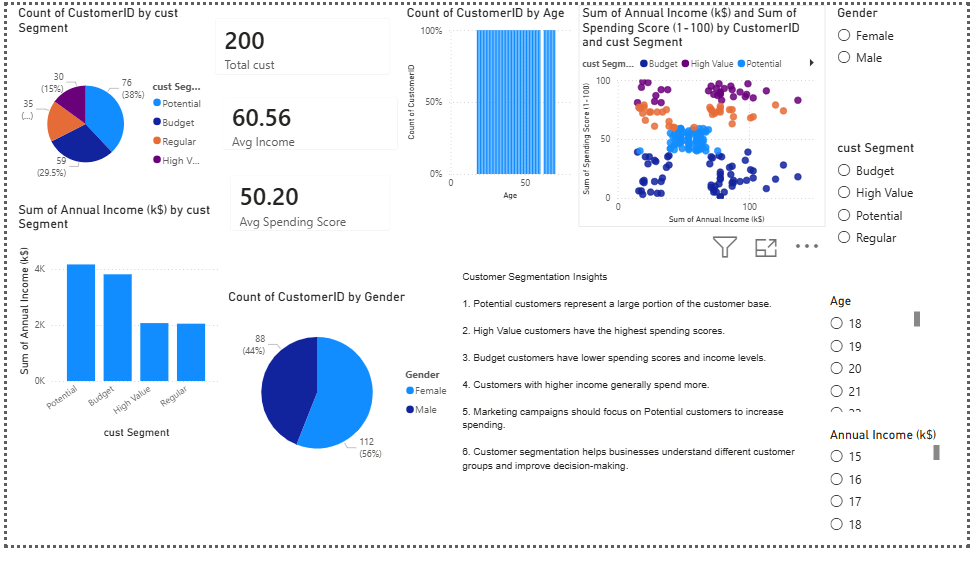

The page's visual inventory and layout, read from the dashboard file:
{"tool":"powerbi","page":{"name":"Page 1","canvas":[1280,720],"ordinal":0},"visuals":[{"type":"pieChart","fields":{"Category":["cust.cust Segment"],"Y":["CountNonNull(cust.CustomerID)"]},"box":[10,0,266,278],"z":0},{"type":"cardVisual","fields":{"Data":["cust.Total cust"]},"box":[260,0,268,110],"z":1},{"type":"cardVisual","fields":{"Data":["cust.Avg Income"]},"box":[270,106,268,104],"z":2},{"type":"cardVisual","fields":{"Data":["cust.Avg Spending Score"]},"box":[280,210,248,108],"z":3},{"type":"clusteredColumnChart","fields":{"Category":["cust.cust Segment"],"Y":["Sum(cust.Annual Income (k$))"]},"box":[10,262,280,320],"z":4},{"type":"hundredPercentStackedColumnChart","fields":{"Category":["cust.Age"],"Y":["CountNonNull(cust.CustomerID)"]},"box":[528,0,234,264],"z":5},{"type":"pieChart","fields":{"Category":["cust.Gender"],"Y":["CountNonNull(cust.CustomerID)"]},"box":[290,378,312,258],"z":6},{"type":"scatterChart","fields":{"X":["Sum(cust.Annual Income (k$))"],"Y":["Sum(cust.Spending Score (1-100))"],"Series":["cust.cust Segment"],"Category":["cust.CustomerID"]},"box":[762,0,330,296],"z":7},{"type":"listSlicer","fields":{"Values":["cust.cust Segment"]},"box":[1102,180,146,166],"z":10},{"type":"listSlicer","fields":{"Values":["cust.Age"]},"box":[1092,384,130,164],"z":11},{"type":"listSlicer","fields":{"Values":["cust.Annual Income (k$)"]},"box":[1092,562,156,148],"z":12},{"type":"textbox","box":[602,346,470,364],"z":13},{"type":"listSlicer","fields":{"Values":["cust.Gender"]},"box":[1102,0,150,180],"z":14}]}

Visuals, with their boxes in screenshot pixels (x1, y1, x2, y2), scaled from the page's 1280x720 canvas onto the 978x562 screenshot:
pieChart - cust.cust Segment x CountNonNull(cust.CustomerID): rect(8, 0, 211, 217)
cardVisual - cust.Total cust: rect(199, 0, 403, 86)
cardVisual - cust.Avg Income: rect(206, 83, 411, 164)
cardVisual - cust.Avg Spending Score: rect(214, 164, 403, 248)
clusteredColumnChart - cust.cust Segment x Sum(cust.Annual Income (k$)): rect(8, 205, 222, 454)
hundredPercentStackedColumnChart - cust.Age x CountNonNull(cust.CustomerID): rect(403, 0, 582, 206)
pieChart - cust.Gender x CountNonNull(cust.CustomerID): rect(222, 295, 460, 496)
scatterChart - Sum(cust.Annual Income (k$)) x Sum(cust.Spending Score (1-100)): rect(582, 0, 834, 231)
listSlicer - cust.cust Segment: rect(842, 140, 954, 270)
listSlicer - cust.Age: rect(834, 300, 934, 428)
listSlicer - cust.Annual Income (k$): rect(834, 439, 954, 554)
textbox: rect(460, 270, 819, 554)
listSlicer - cust.Gender: rect(842, 0, 957, 140)
